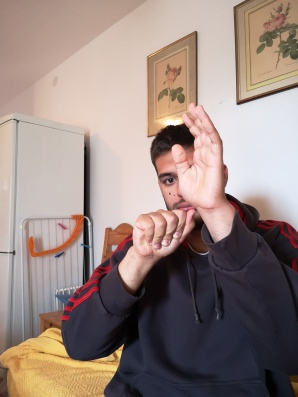A: (127, 205, 202, 257)
